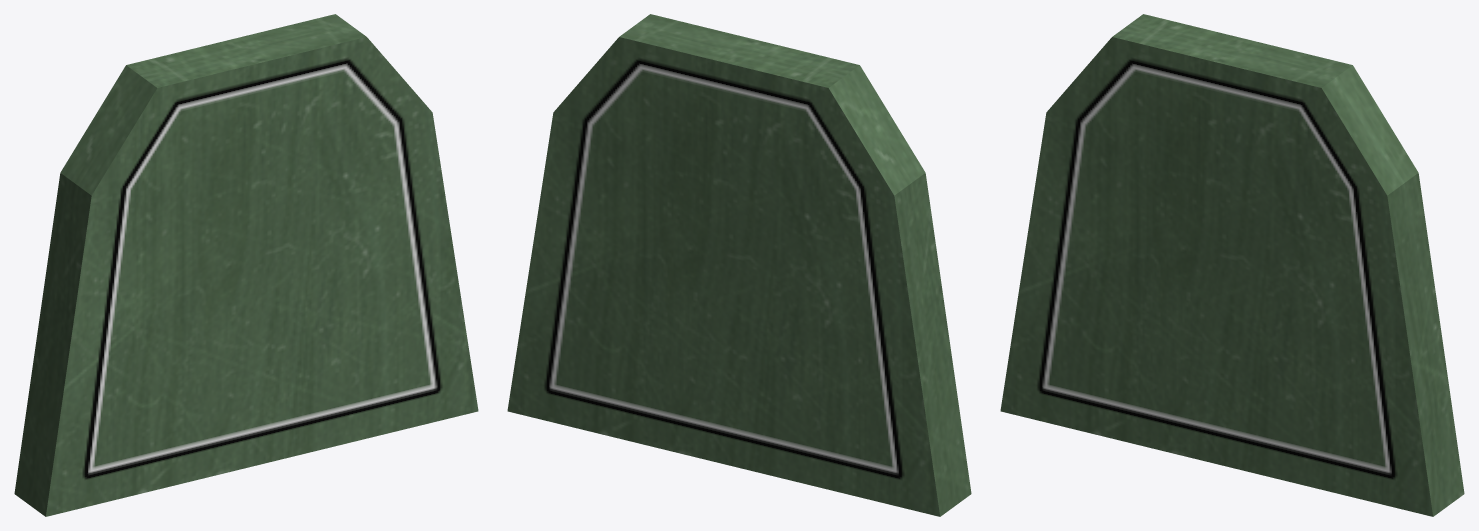
File: SM_Pandaegong02D.fbx
The picture shows the model from 3 angles, left to right: view 1: azimuth 30°, elevation 25°; view 2: azimuth 150°, elevation 25°; view 3: azimuth 330°, elevation 25°; orthographic projection.
Parts seen in each view (by area): view 1: SM_Pandaegong02D; view 2: SM_Pandaegong02D; view 3: SM_Pandaegong02D.
Part boxes in pixels (bbox=[...]): SM_Pandaegong02D: bbox=[14, 14, 478, 516]; SM_Pandaegong02D: bbox=[507, 14, 971, 516]; SM_Pandaegong02D: bbox=[1000, 14, 1464, 516].
Size of the model in its own units: 64.27 by 8.06 by 57.
Materials: 1 (1 with a texture image).
